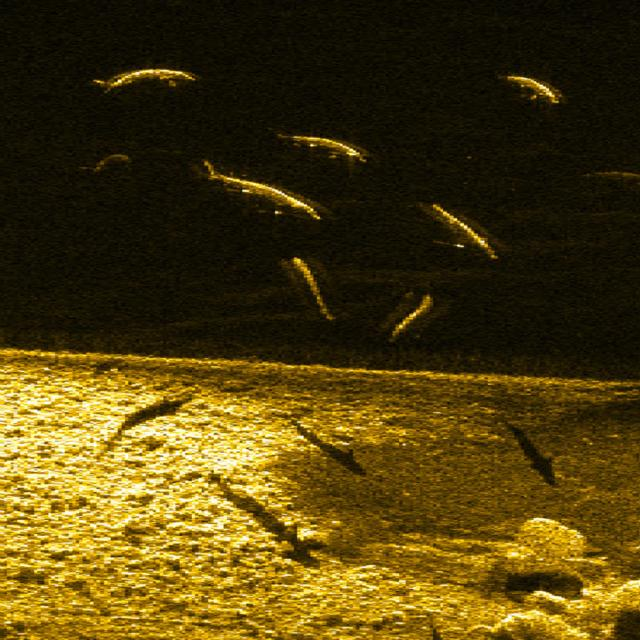fish: (197, 158, 326, 222), (420, 199, 506, 267), (274, 120, 370, 163), (286, 252, 335, 325), (90, 58, 198, 90), (386, 288, 438, 344), (496, 68, 565, 107)
